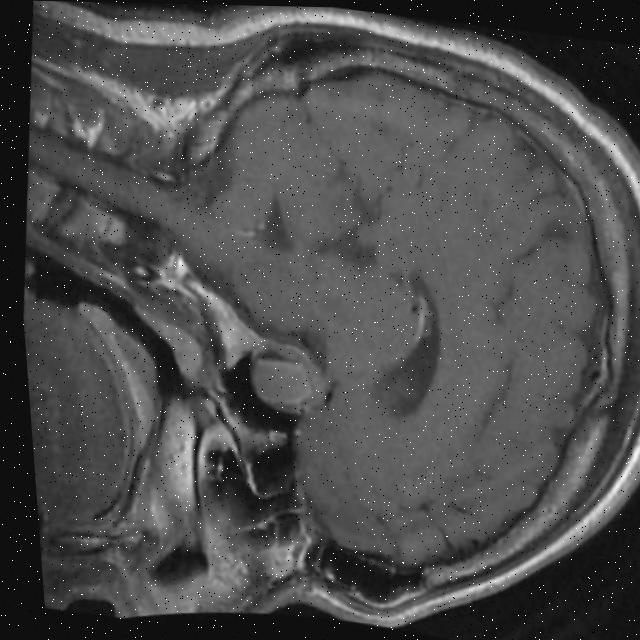Pituitary: (242, 339, 333, 419)
